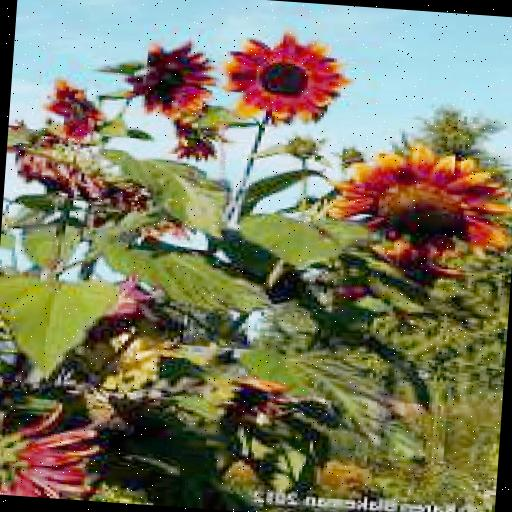sunflower: (335, 137, 512, 275), (220, 30, 354, 130), (0, 397, 105, 501)
